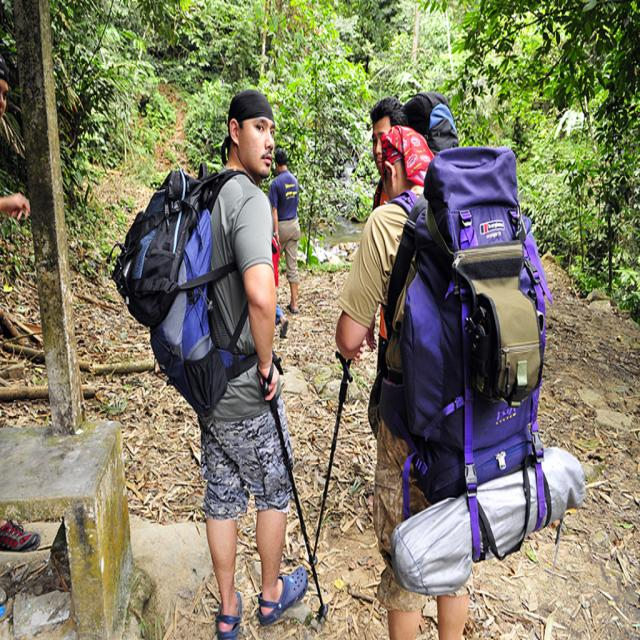backpack: (372, 148, 547, 500), (121, 164, 240, 406)
